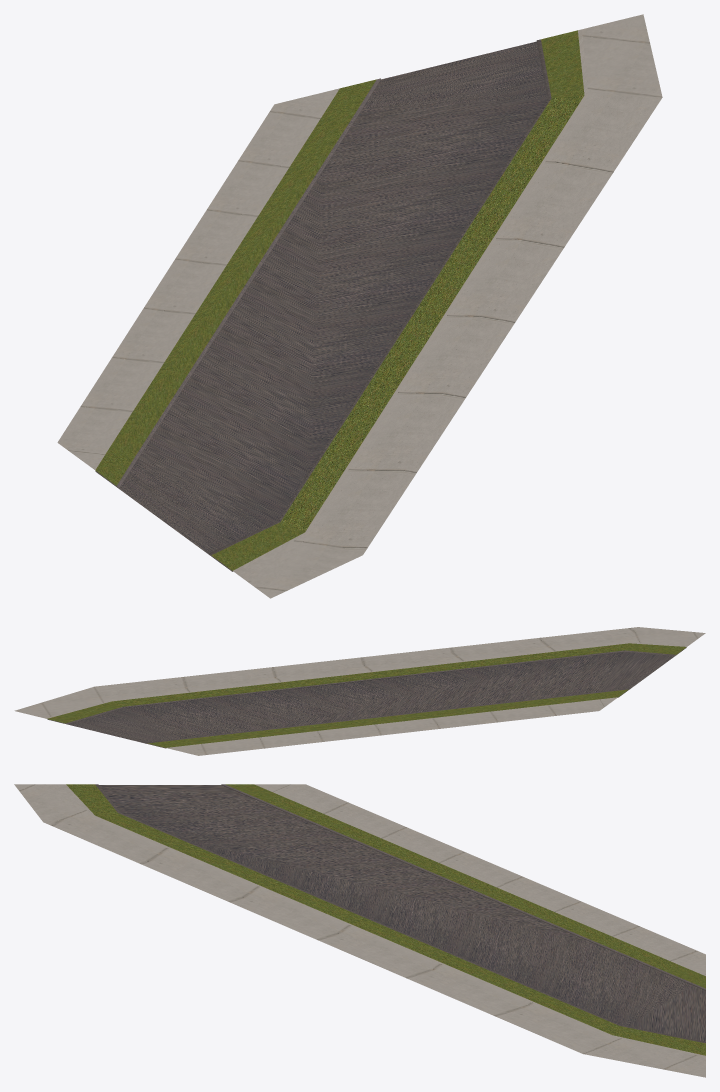
The model's file is TurnRoadNew3.fbx.
3 views of the same model, one above another, from view 1: azimuth 30°, elevation 25°; view 2: azimuth 150°, elevation 25°; view 3: azimuth 270°, elevation 25° (orthographic). The views are drawn at different scales.
Visible parts, largest first — view 1: SM_Road_01_2.001; view 2: SM_Road_01_2.001; view 3: SM_Road_01_2.001.
Boxes of the visible parts, x1,y1,x2,y2 form: SM_Road_01_2.001: [57, 14, 662, 598]; SM_Road_01_2.001: [14, 627, 705, 755]; SM_Road_01_2.001: [14, 784, 705, 1077].
Bounding box in the file's own units: 7735 × 9.56 × 7709.
